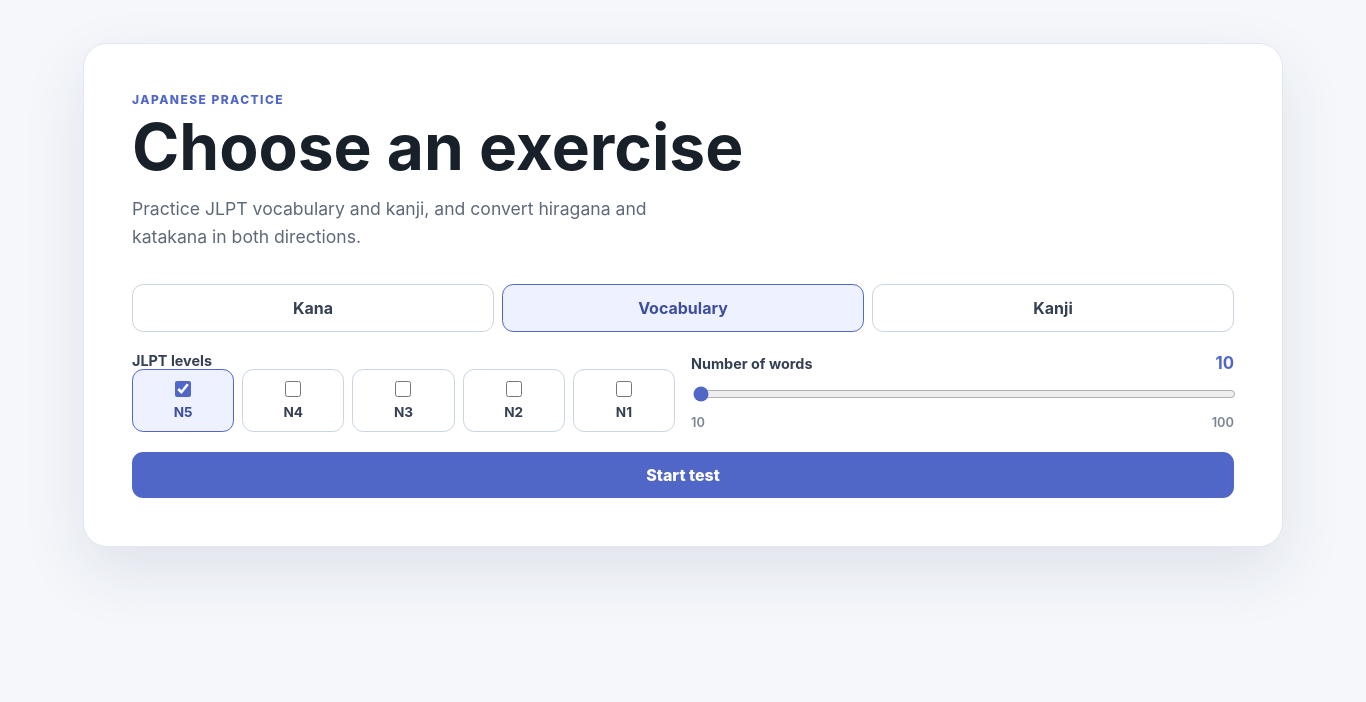
Test: HomeView › selects both scripts and all kana from a partial selection
Click the button with class "exercise-tab" showing "Kana". click: (313, 308)
box: [132,284,494,332]
(page scrolled)
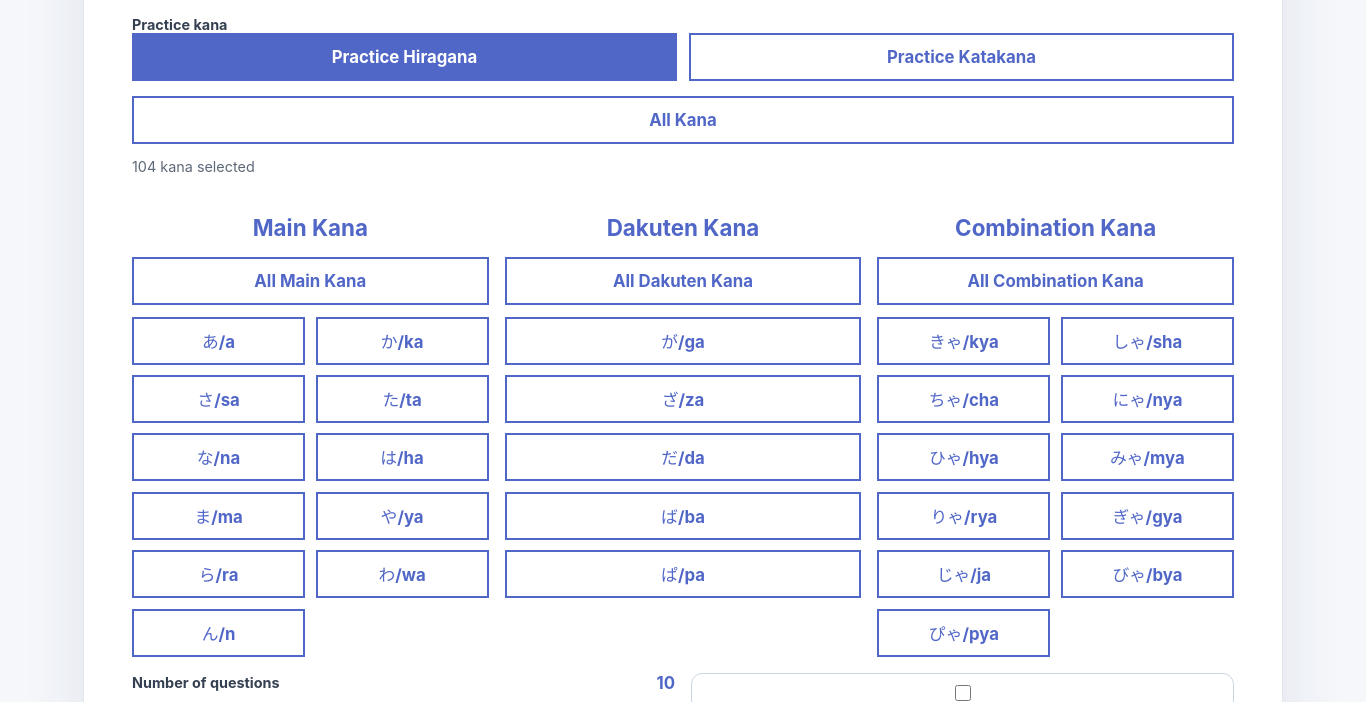
Click the button with class "kana-choice" showing "あ/a". click: (219, 341)
box: [132,317,305,365]
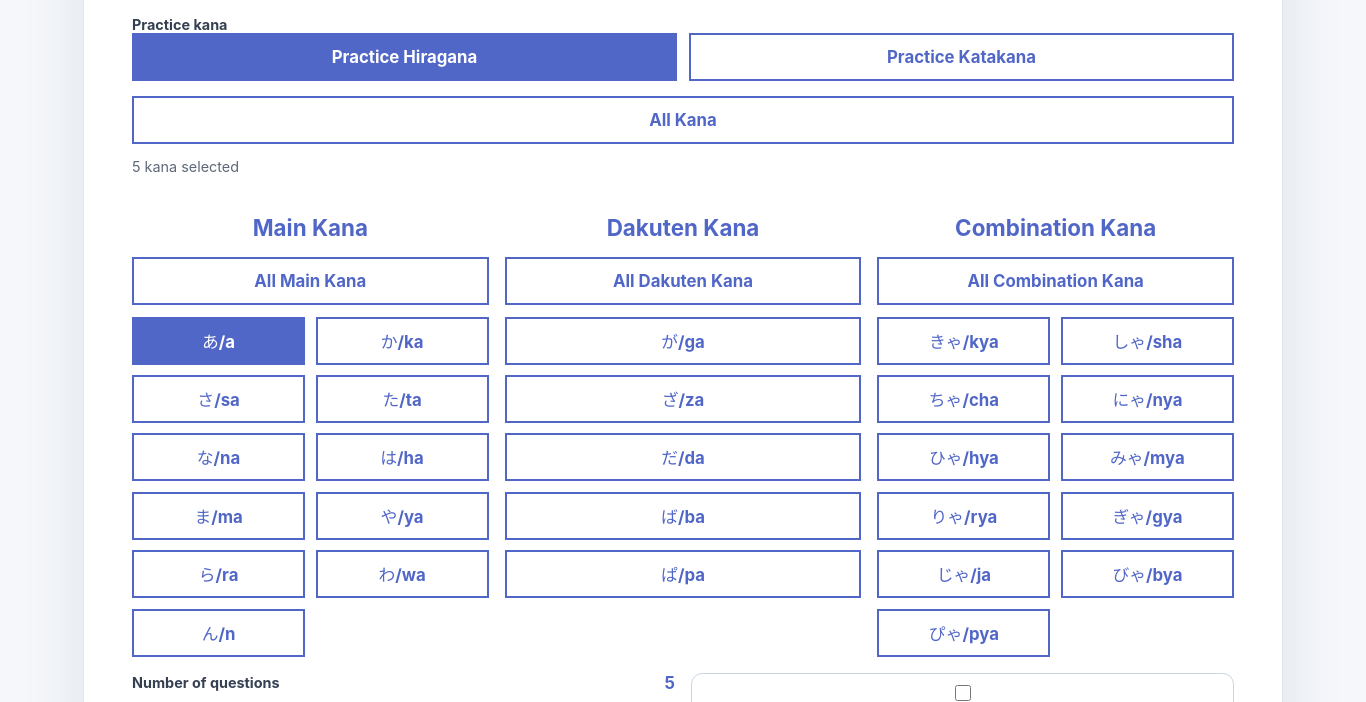
Click the button with class "kana-category-all" showing "All Combination Kana". click: (1056, 281)
box: [877,257,1234,305]
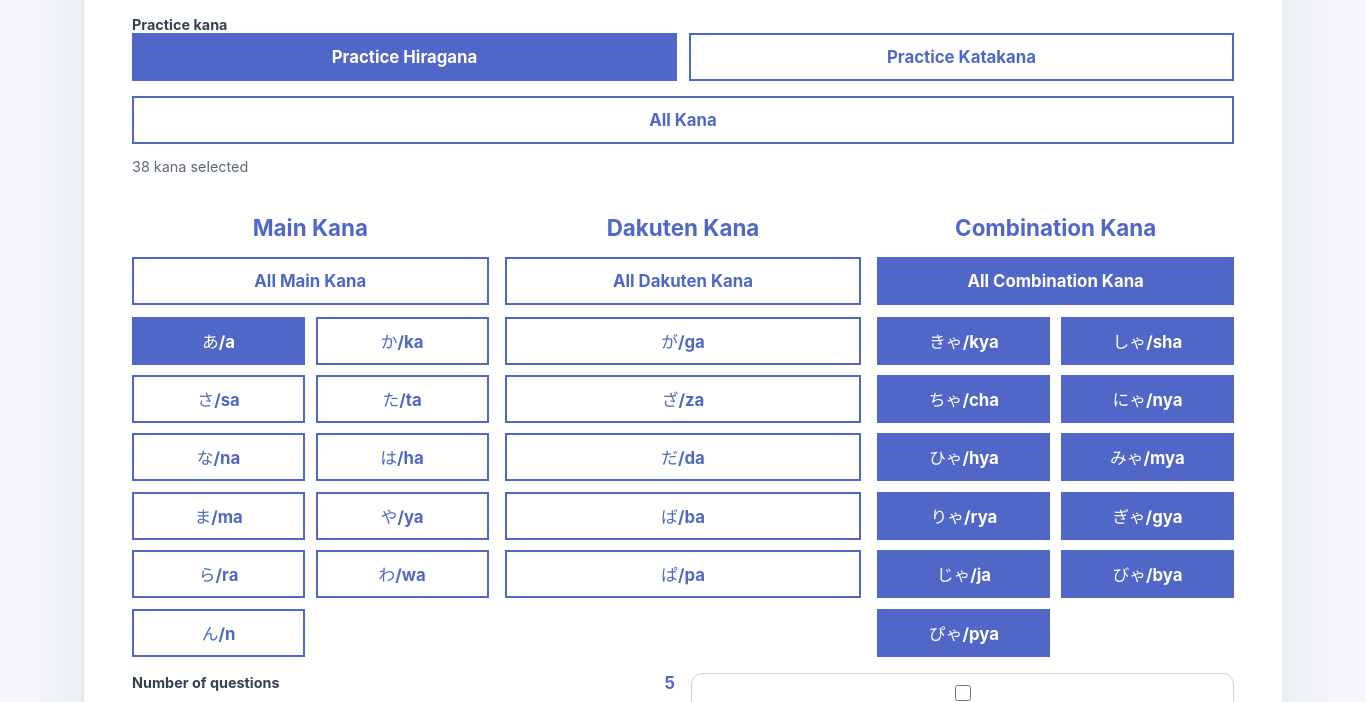
Click the button with class "kana-all-button". click: (683, 120)
box: [132,96,1234,144]
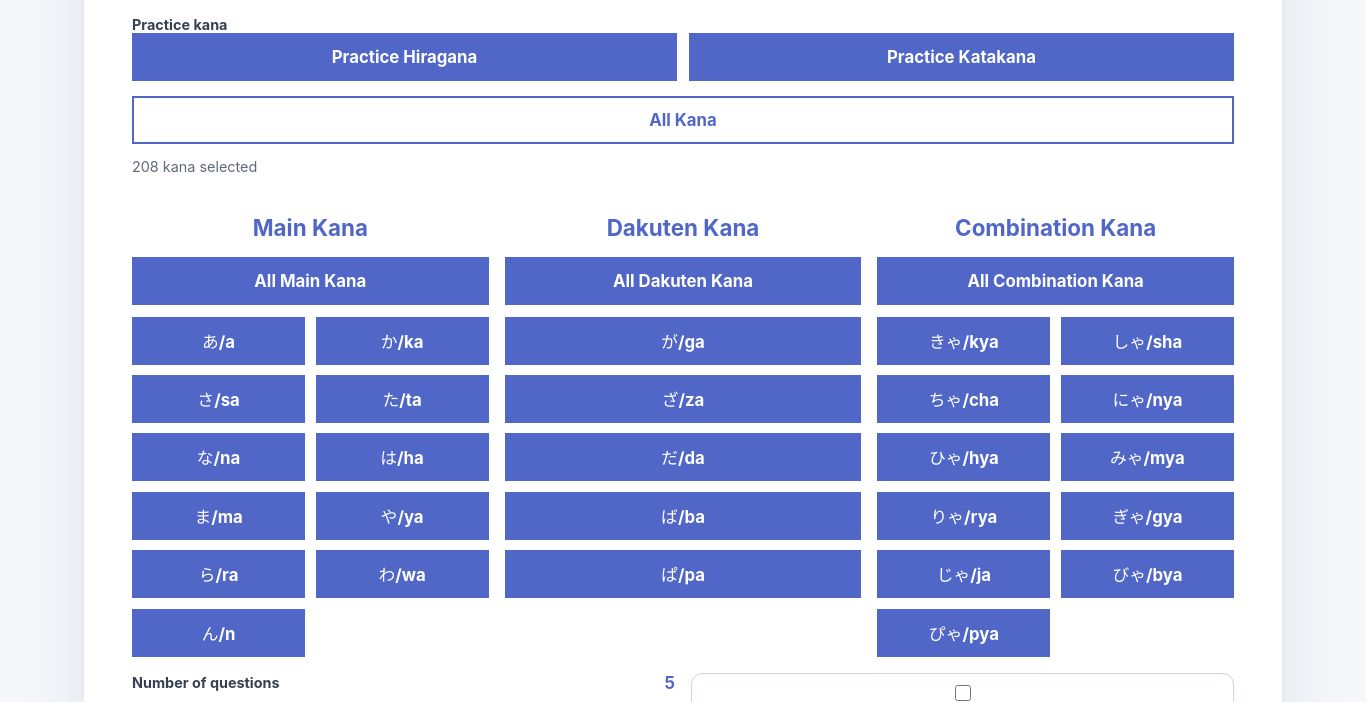
Expected: the button with class "kana-script-tab" reads "Practice Hiragana", [132,34,677,82]
Expected: the text "208 kana selected" is shown, [132,158,257,175]
